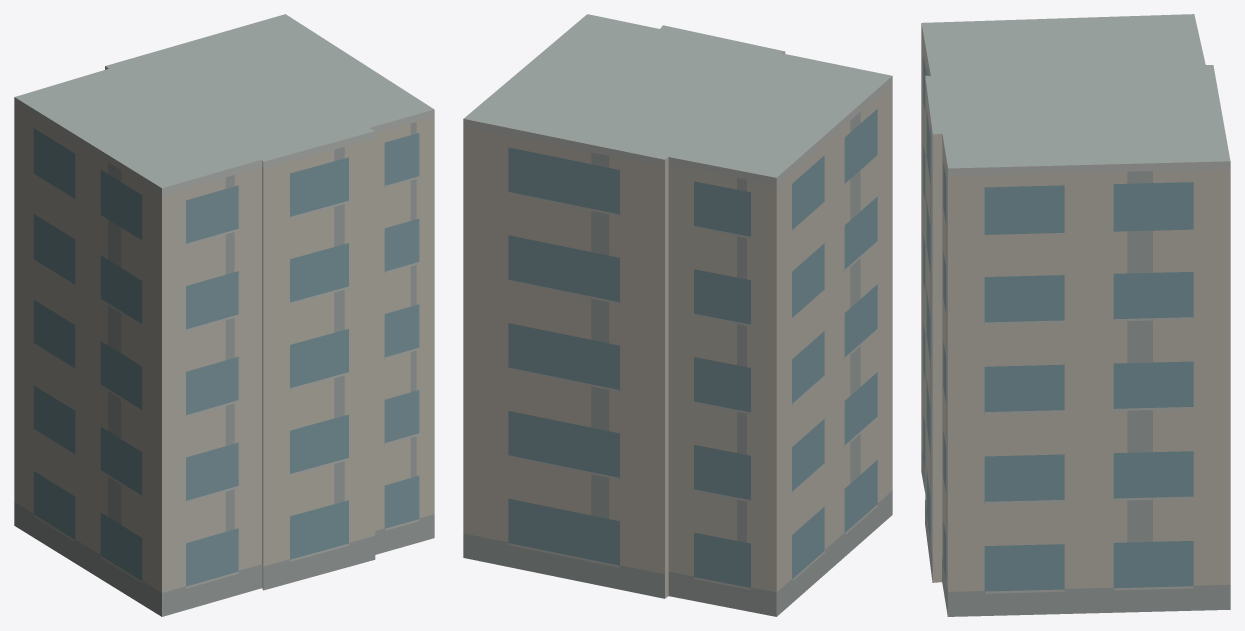
Rendered from survey-upis-32941299.glb.
3 renders of one model, left to right at view 1: azimuth 30°, elevation 25°; view 2: azimuth 150°, elevation 25°; view 3: azimuth 270°, elevation 25°, orthographic. The views are drawn at different scales.
Visible parts, largest first — view 1: survey-upis-32941299.tmp; view 2: survey-upis-32941299.tmp; view 3: survey-upis-32941299.tmp.
Part boxes in pixels (box(x1,y1,x2,y2)): survey-upis-32941299.tmp: box(14, 14, 434, 616); survey-upis-32941299.tmp: box(463, 14, 892, 616); survey-upis-32941299.tmp: box(921, 14, 1230, 616).
Bounding box in the file's own units: 10.42 × 14.1 × 8.82.
